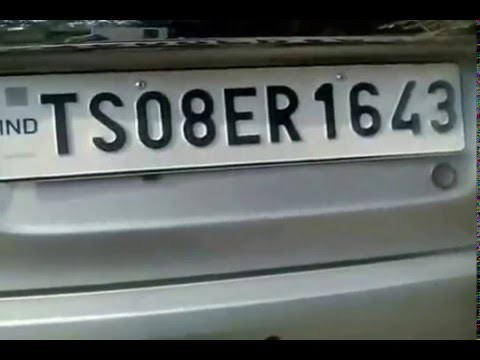numberPlate: (1, 79, 462, 155)
